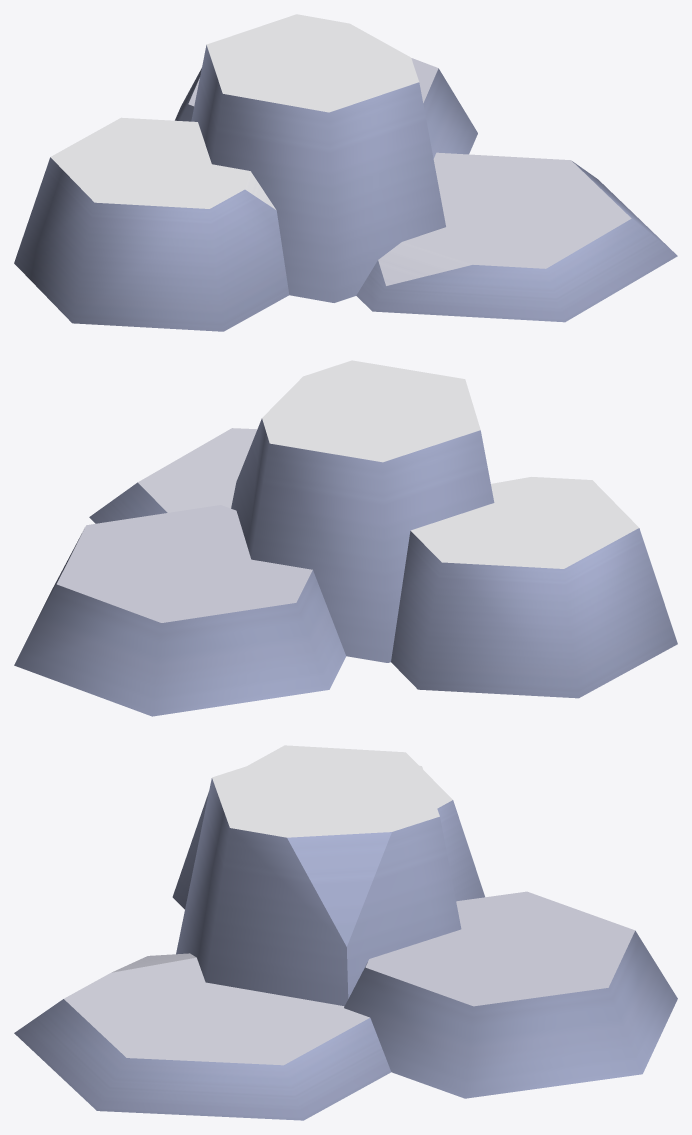
The model's file is snow-detail-rocks.fbx.
The picture shows the model from 3 angles, top to bottom: view 1: azimuth 30°, elevation 25°; view 2: azimuth 150°, elevation 25°; view 3: azimuth 270°, elevation 25°; orthographic projection. The views are drawn at different scales.
Parts seen in each view (by area): view 1: snow-detail-rocks; view 2: snow-detail-rocks; view 3: snow-detail-rocks.
Boxes of the visible parts, bbox=[...] form: snow-detail-rocks: bbox=[14, 14, 677, 331]; snow-detail-rocks: bbox=[14, 360, 677, 716]; snow-detail-rocks: bbox=[14, 745, 677, 1120].
Bounding box in the file's own units: 59.75 × 18.44 × 60.55.
